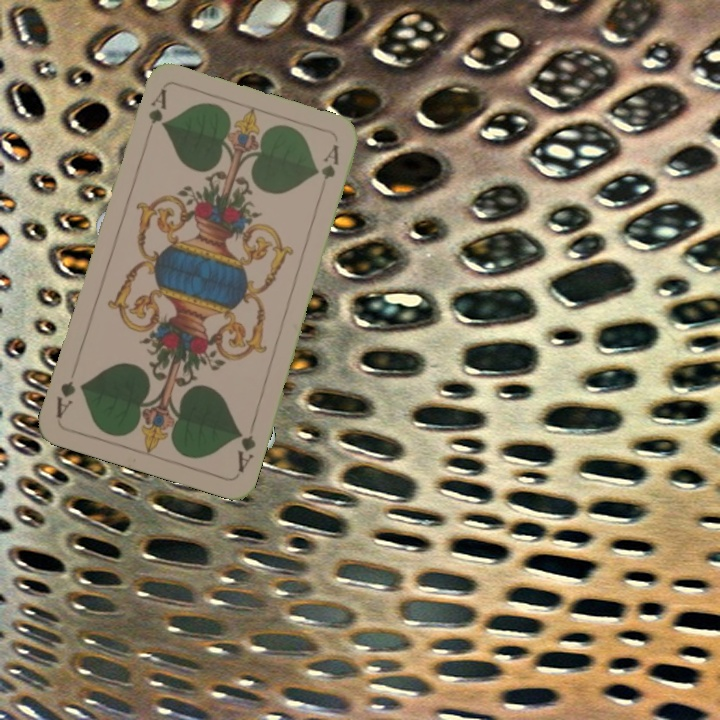GA: (233, 417, 259, 475), (144, 85, 169, 127)
